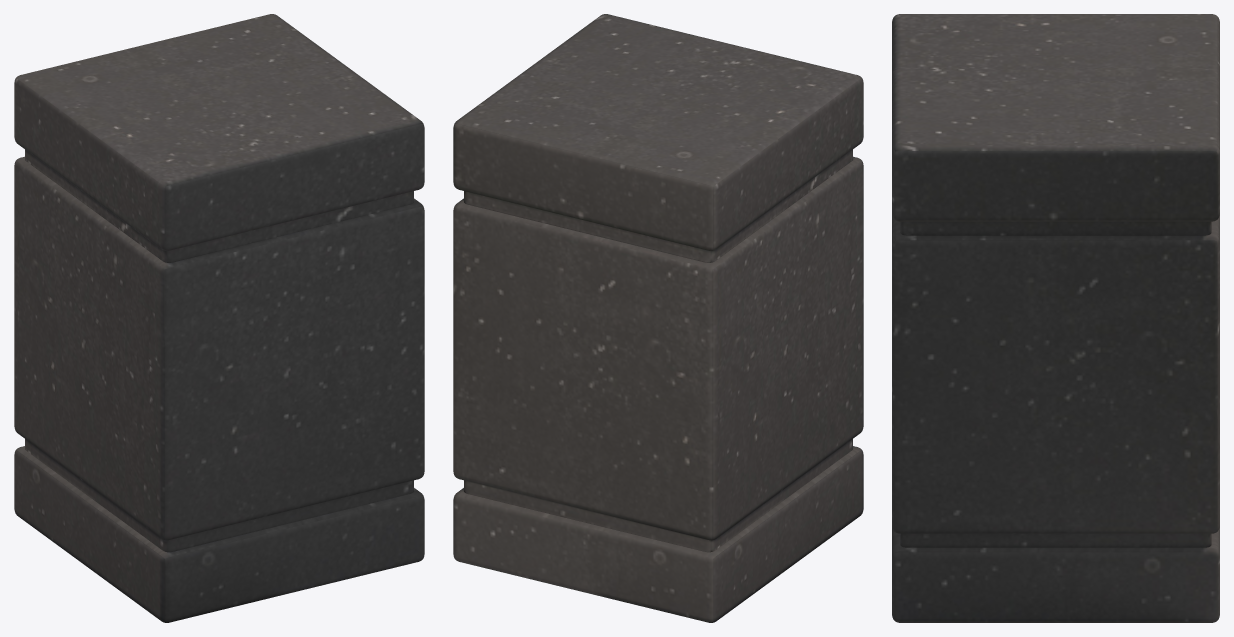
The model's file is b-rook.glb.
The picture shows the model from 3 angles, left to right: view 1: azimuth 30°, elevation 25°; view 2: azimuth 150°, elevation 25°; view 3: azimuth 270°, elevation 25°; orthographic projection. The views are drawn at different scales.
Visible parts, largest first — view 1: b-rook; view 2: b-rook; view 3: b-rook.
Part boxes in pixels (left/top/right/bottom): b-rook: left=14, top=14, right=424, bottom=622; b-rook: left=453, top=14, right=863, bottom=622; b-rook: left=892, top=14, right=1219, bottom=622.
Bounding box in the file's own units: 0.508 × 0.8128 × 0.508.
Materials: 1 (1 with a texture image).
